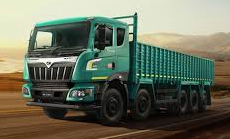truck: (15, 8, 218, 129)
